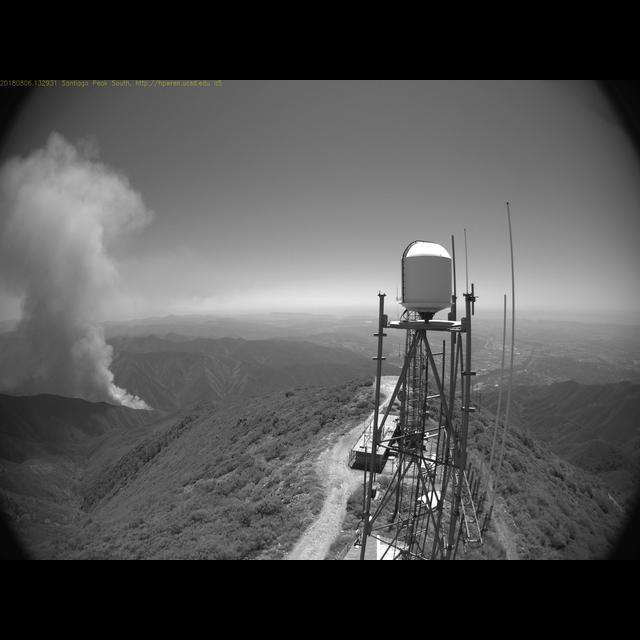Smoke: (1, 132, 160, 414)
